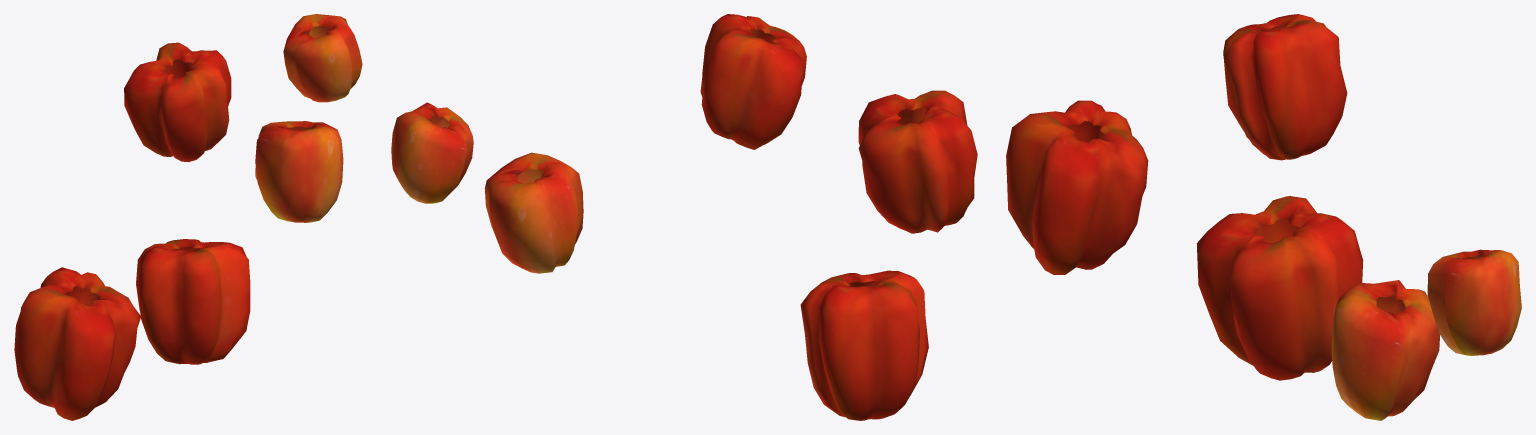
Rendered from VG07_5_fruitonly.dae.
3 views of the same model, side by side, from view 1: azimuth 30°, elevation 25°; view 2: azimuth 150°, elevation 25°; view 3: azimuth 270°, elevation 25° (orthographic). The views are drawn at different scales.
Visible parts, largest first — view 1: VG07_024; view 2: VG07_024; view 3: VG07_024.
Boxes of the visible parts, x1,y1,x2,y2 form: VG07_024: [14, 14, 362, 420]; VG07_024: [391, 14, 977, 420]; VG07_024: [1006, 14, 1521, 420].
Bounding box in the file's own units: 0.2988 × 0.2592 × 0.232.
Materials: 2 (2 with a texture image).
